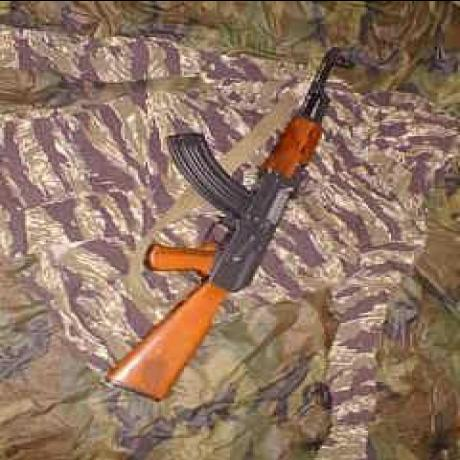weapon: (106, 45, 358, 402)
